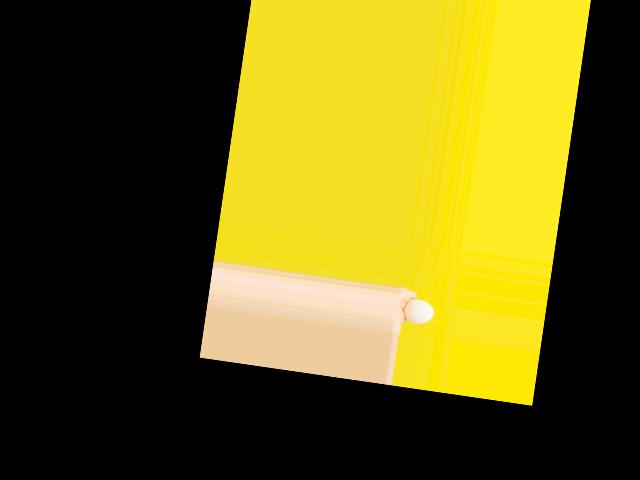egg: (401, 297, 435, 324)
